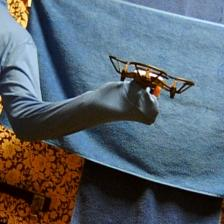drone: (106, 55, 195, 101)
